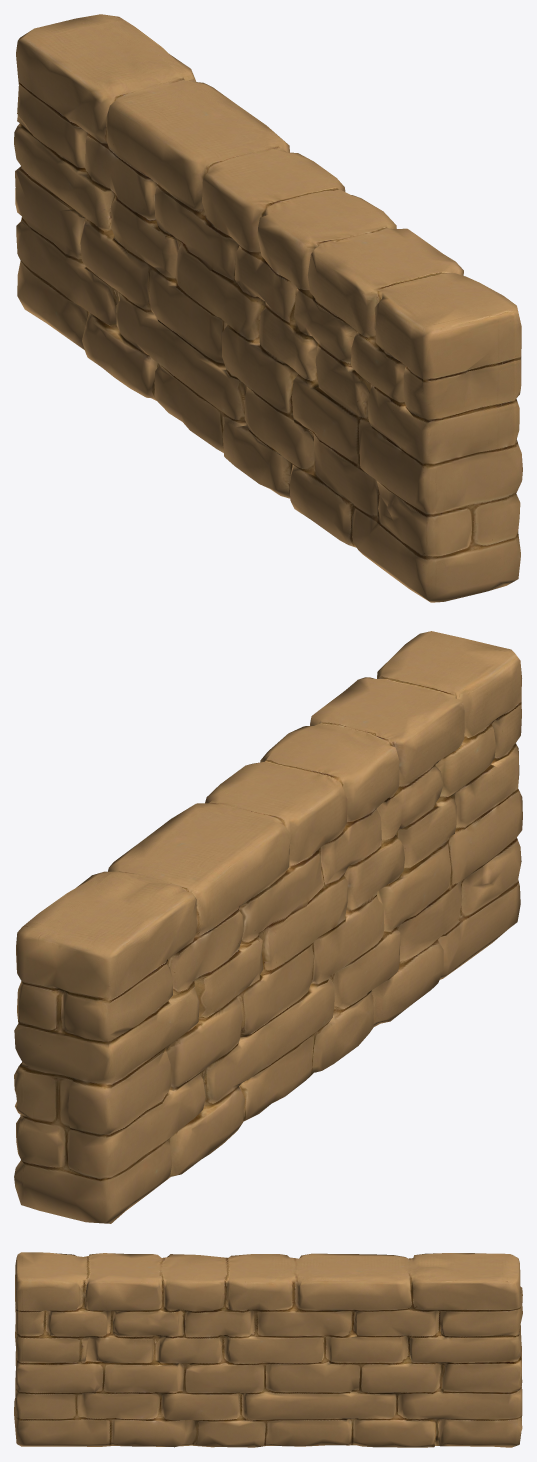
The model's file is tripo_convert_016ab849-4a28-4893-b219-c8d8afbcc445.fbx.
3 renders of one model, top to bottom at view 1: azimuth 30°, elevation 25°; view 2: azimuth 150°, elevation 25°; view 3: azimuth 270°, elevation 25°, orthographic. The views are drawn at different scales.
Parts seen in each view (by area): view 1: tripo_node_016ab849; view 2: tripo_node_016ab849; view 3: tripo_node_016ab849.
Part boxes in pixels (x1,y1,x2,y2): tripo_node_016ab849: [14, 14, 522, 602]; tripo_node_016ab849: [14, 631, 522, 1223]; tripo_node_016ab849: [14, 1252, 522, 1447].
Bounding box in the file's own units: 0.1438 × 0.3699 × 0.9966.
